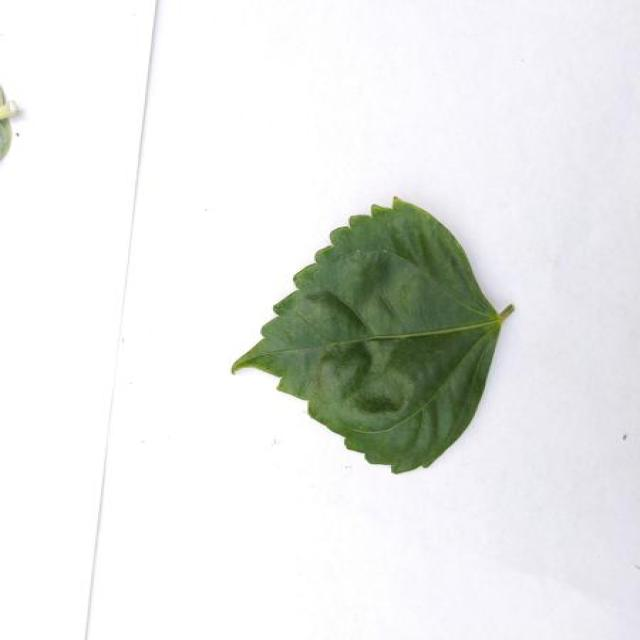Hibiscus: (233, 199, 513, 472)
